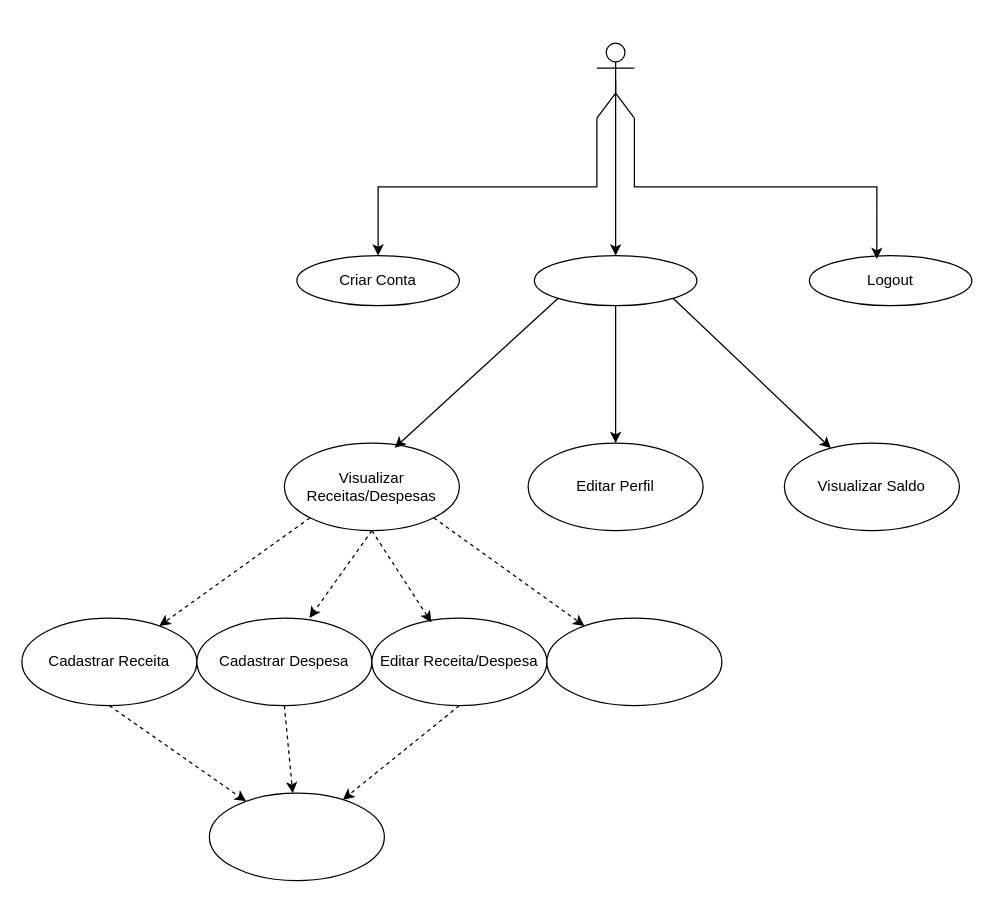
This 994x903 diagram has some shape labels left out. The centre of each missing label's shape, as x and y in pixels:
Categorizar: point (296, 836)
Excluir Receita/Despesa: point (634, 661)
Fazer Login: point (615, 280)
Usuário: point (615, 80)
